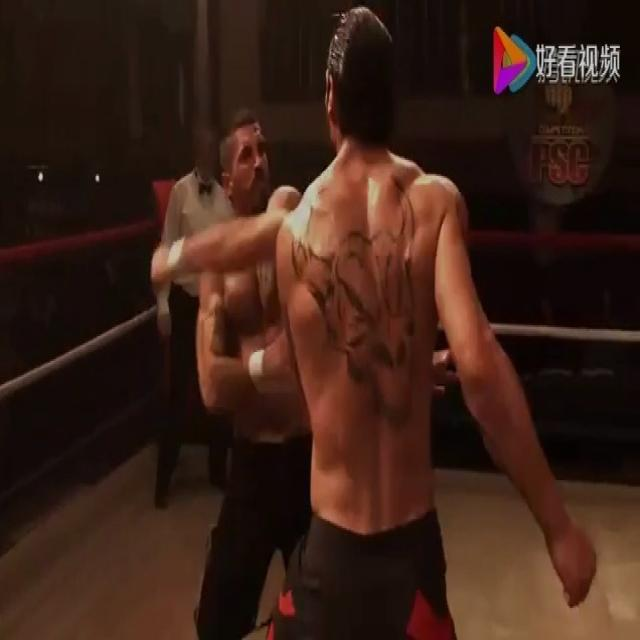fight: (136, 4, 600, 638)
non-fight: (149, 108, 229, 508)
